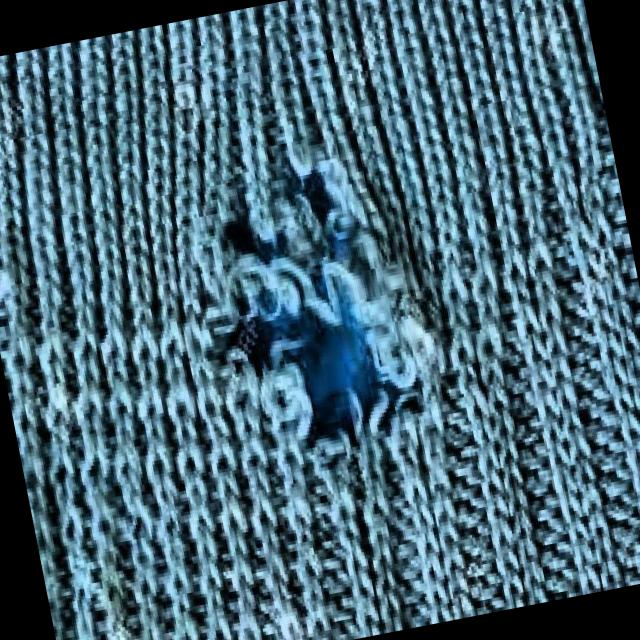cut: (158, 106, 501, 558)
